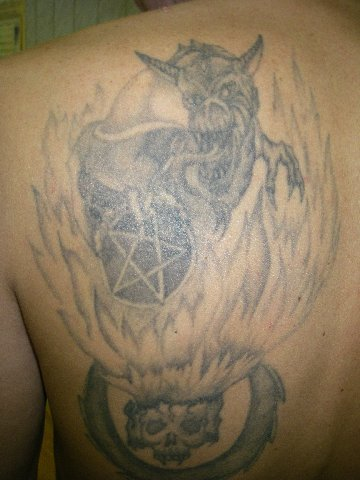tatu6_drakon: (25, 20, 346, 473)
